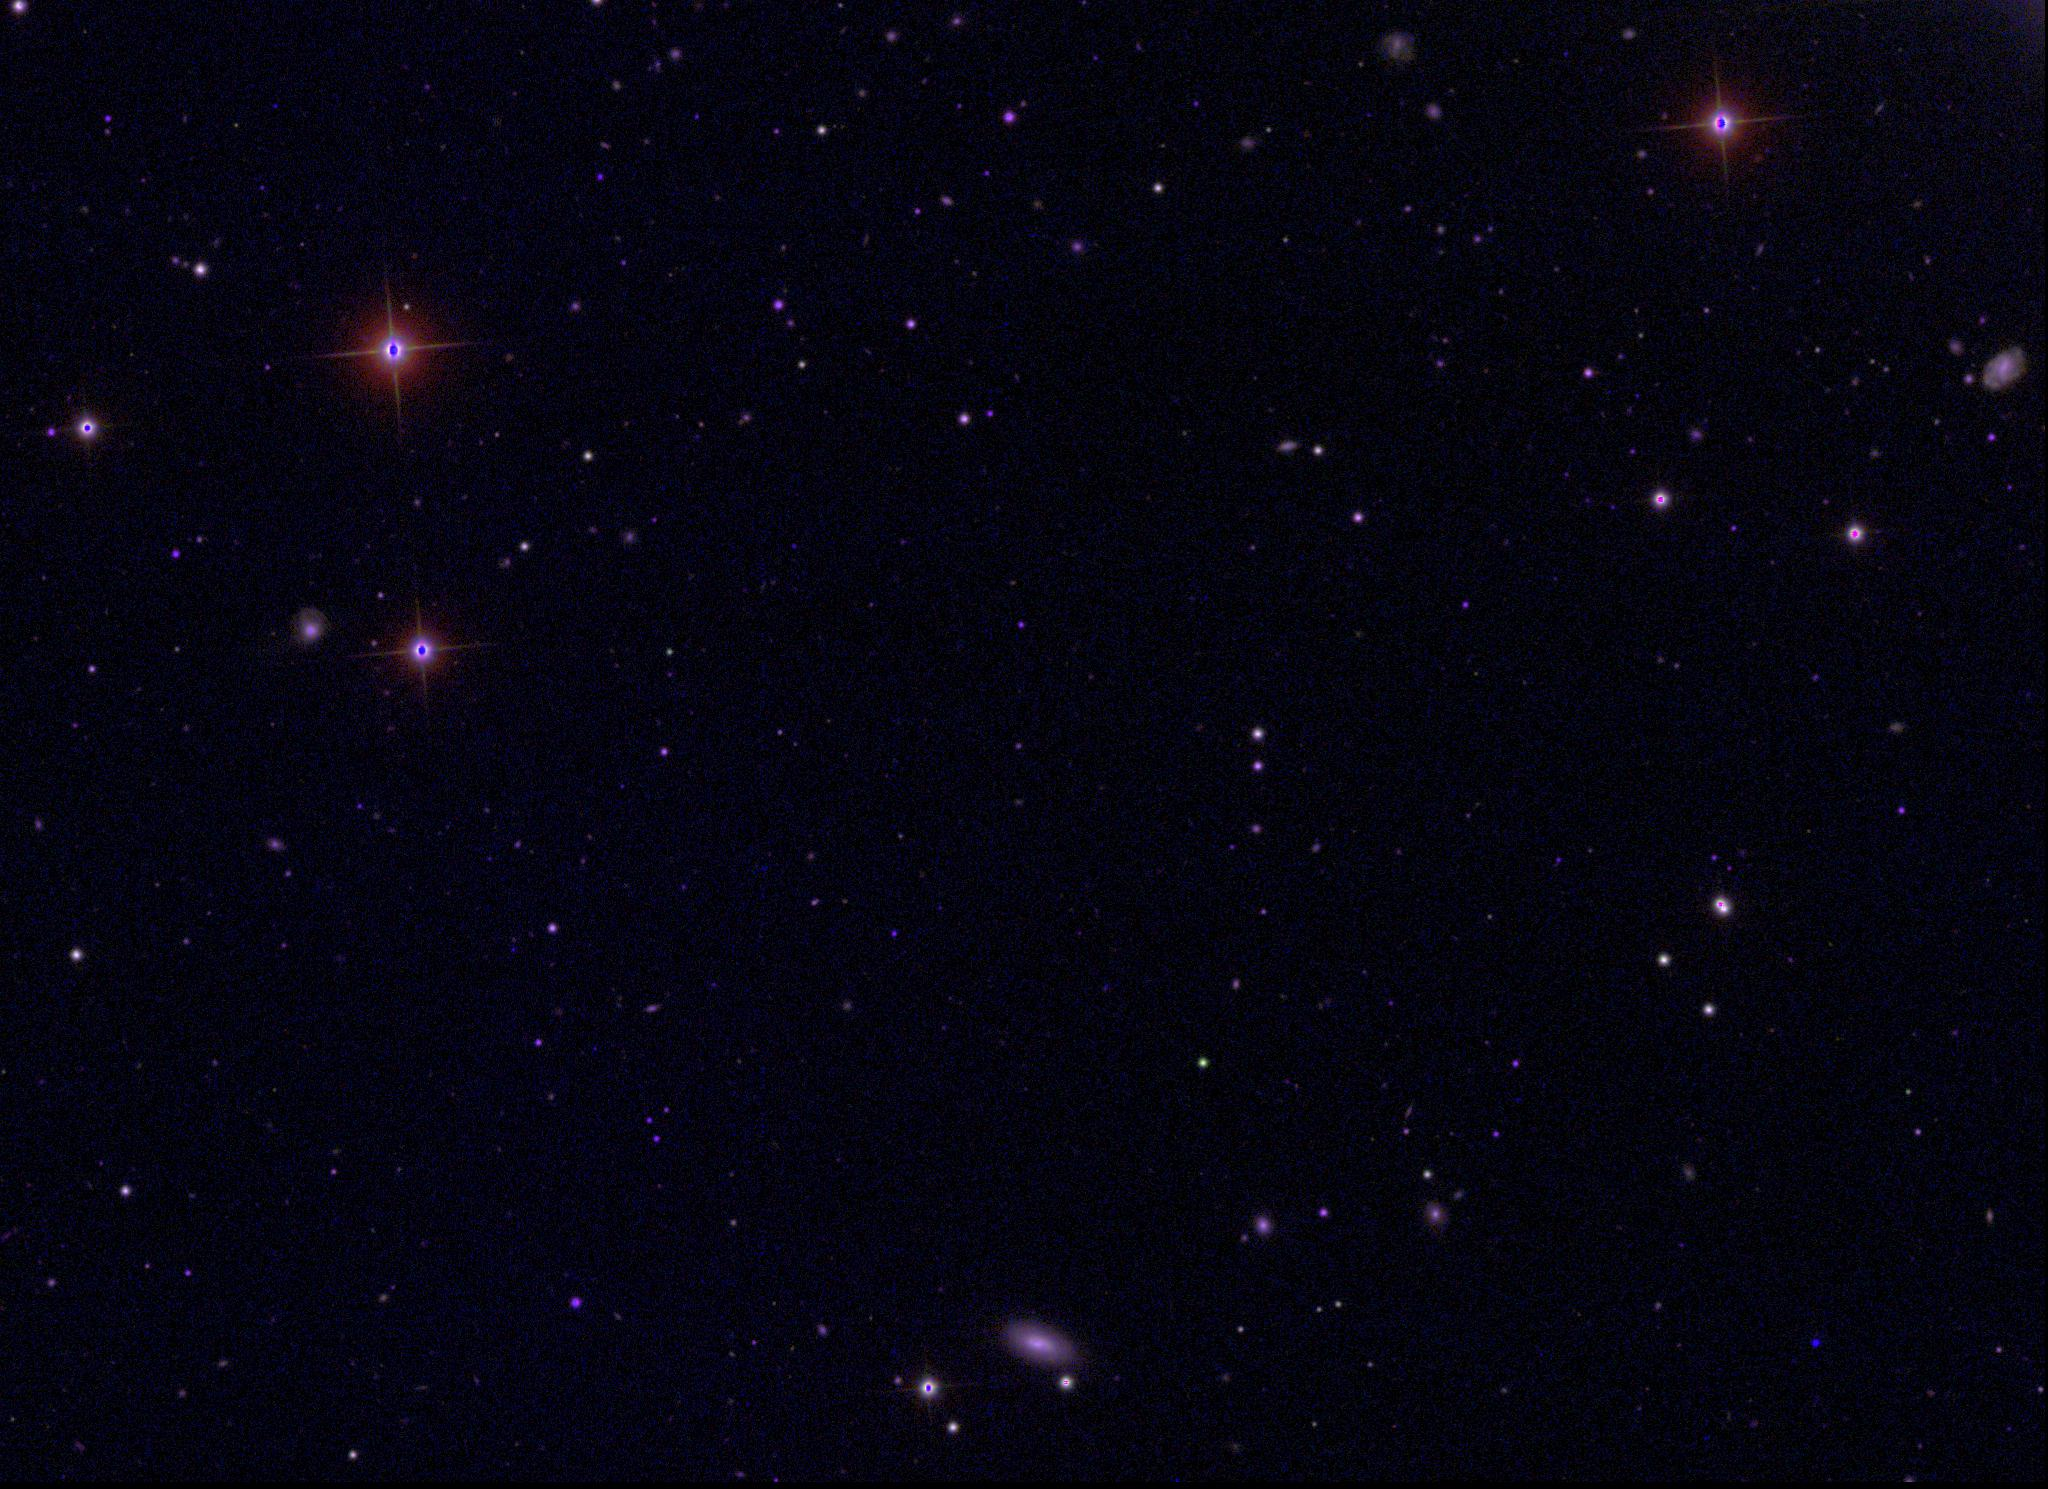L: (1806, 1333, 1821, 1347)
